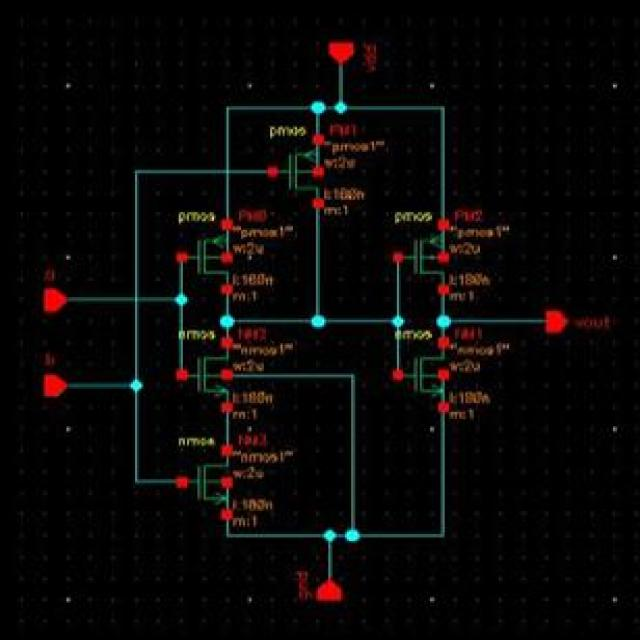nmos: (391, 329, 451, 415), (177, 329, 234, 412)
pmos: (176, 210, 238, 294), (265, 124, 324, 212), (393, 212, 452, 293)
